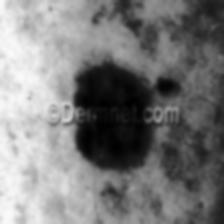Potentially Malignant Skin Tumors: (68, 60, 150, 164)
